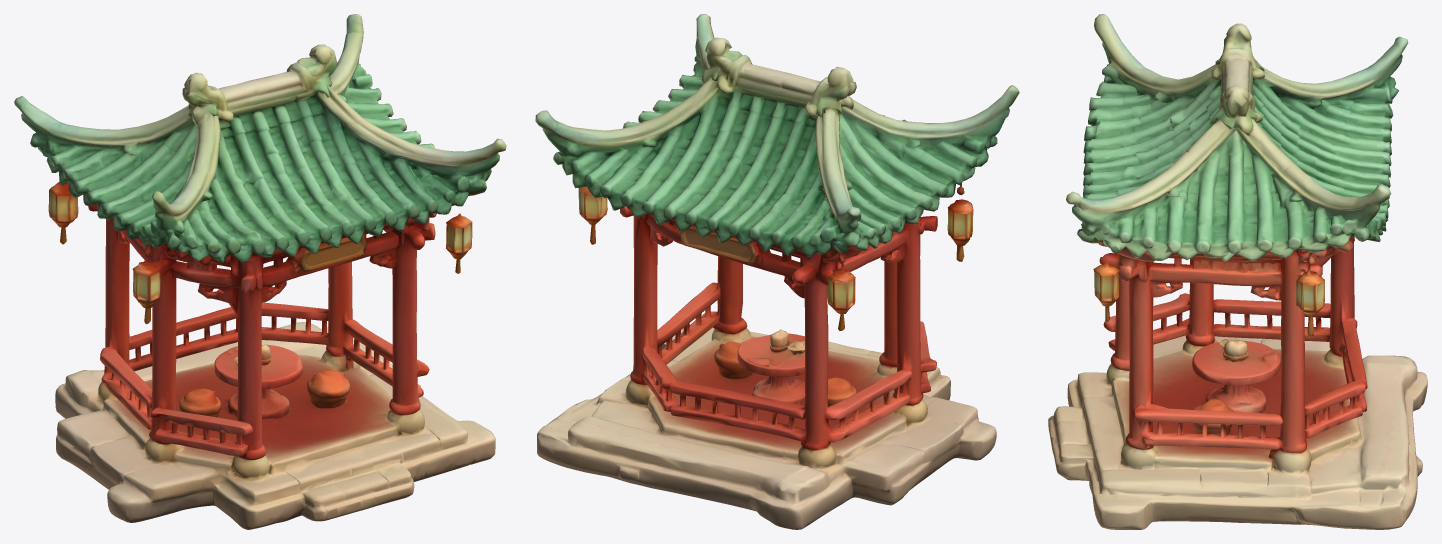
File: scholar.glb
3 renders of one model, left to right at view 1: azimuth 30°, elevation 25°; view 2: azimuth 150°, elevation 25°; view 3: azimuth 270°, elevation 25°, orthographic. The views are drawn at different scales.
Parts seen in each view (by area): view 1: tripo_node_8ebc80bc-dbc9-4172-9da3-00d1deb5632c; view 2: tripo_node_8ebc80bc-dbc9-4172-9da3-00d1deb5632c; view 3: tripo_node_8ebc80bc-dbc9-4172-9da3-00d1deb5632c.
Boxes of the visible parts, x1,y1,x2,y2 form: tripo_node_8ebc80bc-dbc9-4172-9da3-00d1deb5632c: [14, 14, 506, 529]; tripo_node_8ebc80bc-dbc9-4172-9da3-00d1deb5632c: [535, 14, 1019, 529]; tripo_node_8ebc80bc-dbc9-4172-9da3-00d1deb5632c: [1048, 14, 1427, 529].
Bounding box in the file's own units: 0.9313 × 0.979 × 0.8558.
1 material, 1 textured.
